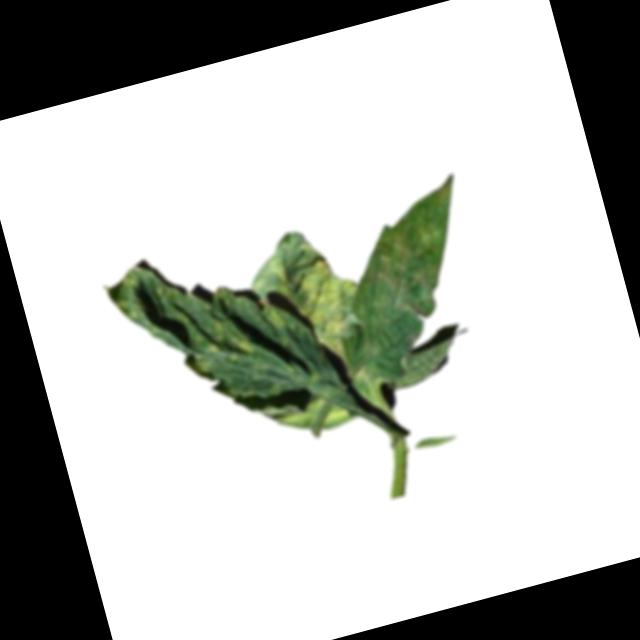Leaf_Mold: (339, 173, 493, 356), (101, 239, 268, 400), (247, 235, 382, 385)
